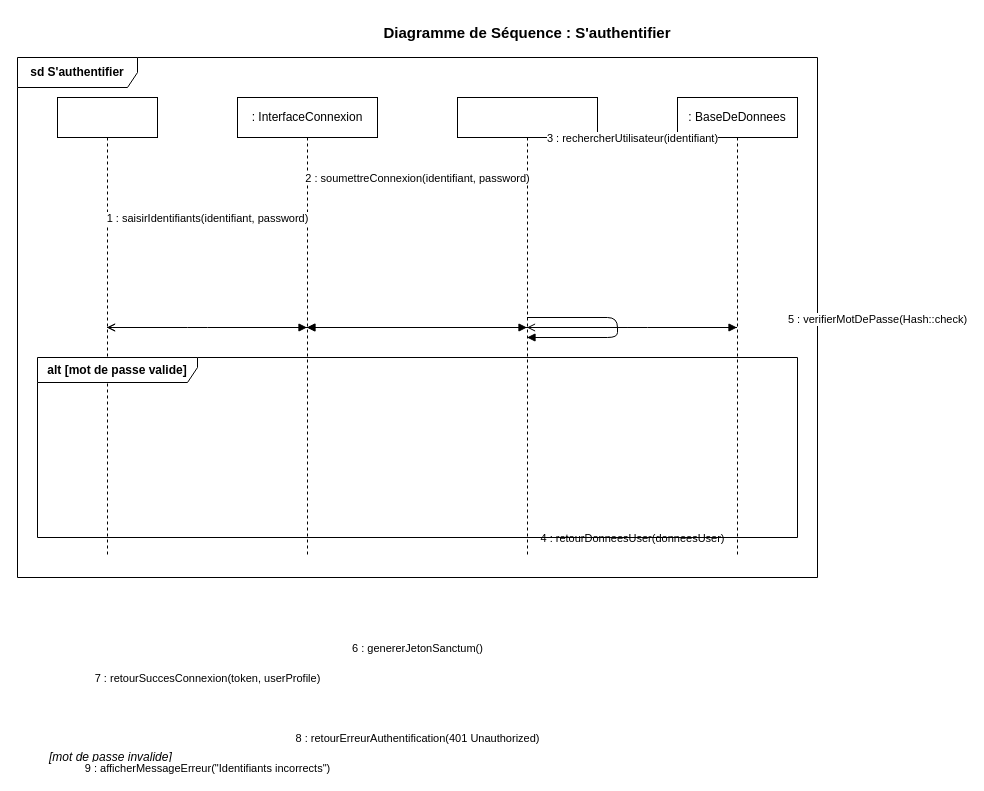
The diagram is 984 pixels wide and 791 high, and some of its shapes have lost their labels. Here are the shapes that lost their labels. From the top down, the box of each, then its label:
(56, 96, 158, 558): Utilisateur (Citoyen/Admin)
(456, 96, 598, 558): : AuthController
